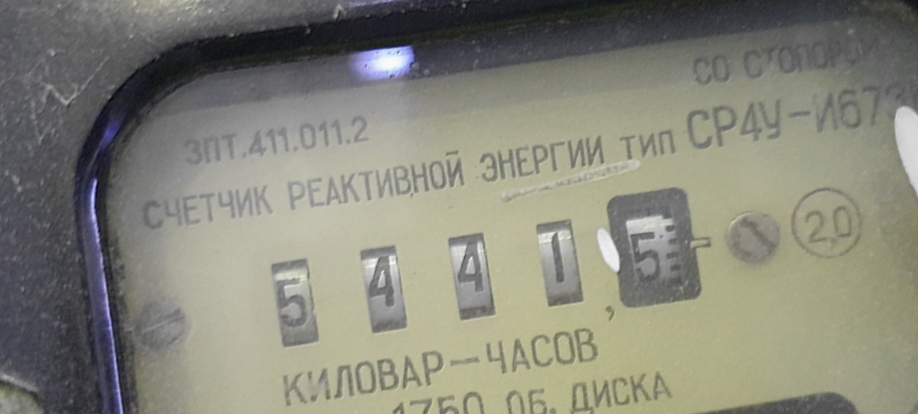1: (541, 228, 571, 288)
4: (447, 233, 491, 303), (360, 249, 402, 314)
5: (625, 224, 667, 290), (270, 272, 314, 333)
screen: (240, 161, 729, 378)
